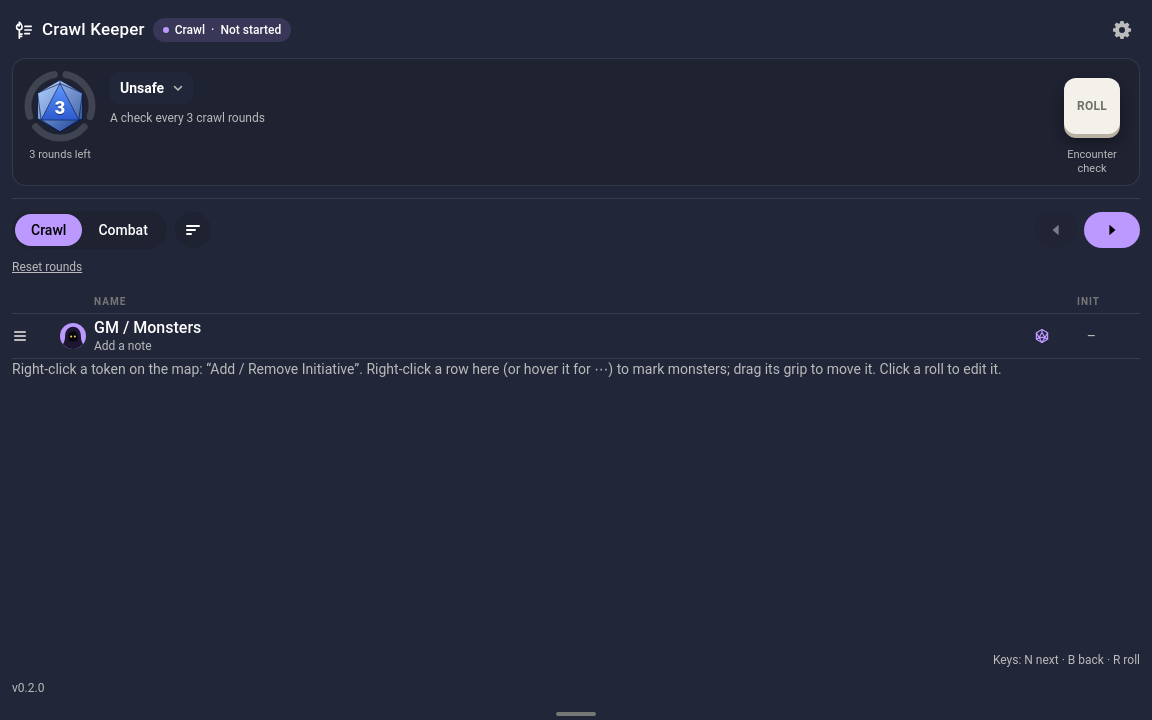
Scenario: Tracker (GM) › the GM rolls d20 + the monsters' modifier into the GM / Monsters roll
# The d20 left of the roll opens the modifier and Roll.
Click the button named "Roll initiative for GM / Monsters" at {"x": 1042, "y": 336}, box [1028, 322, 1056, 350]
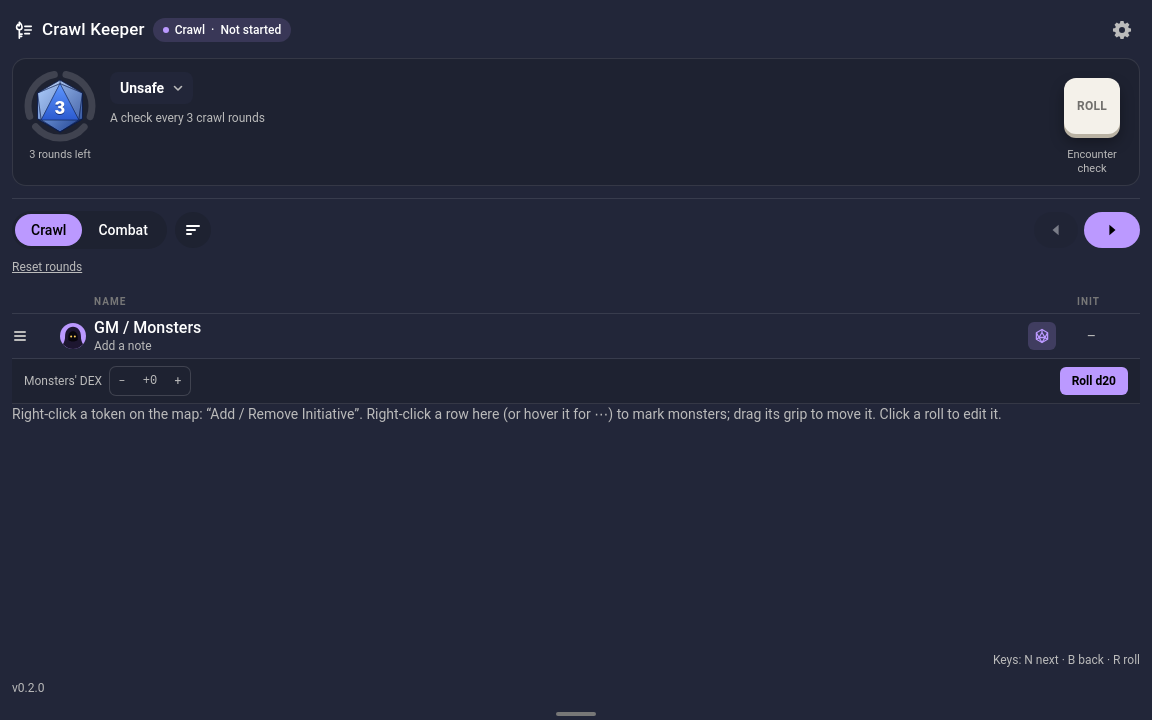
Type "+2" into the field named "Monster DEX modifier" at {"x": 150, "y": 380}, box [134, 366, 166, 394]
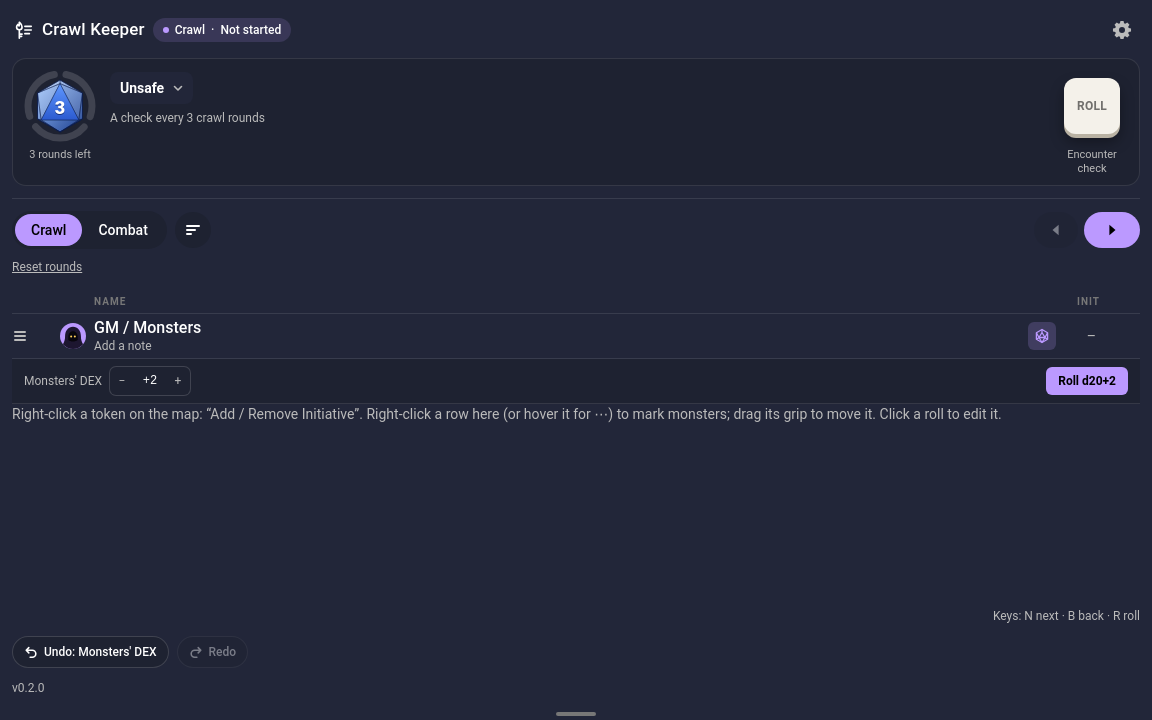
Click the button named "DEX modifier up" at {"x": 178, "y": 380}, box [166, 366, 190, 394]
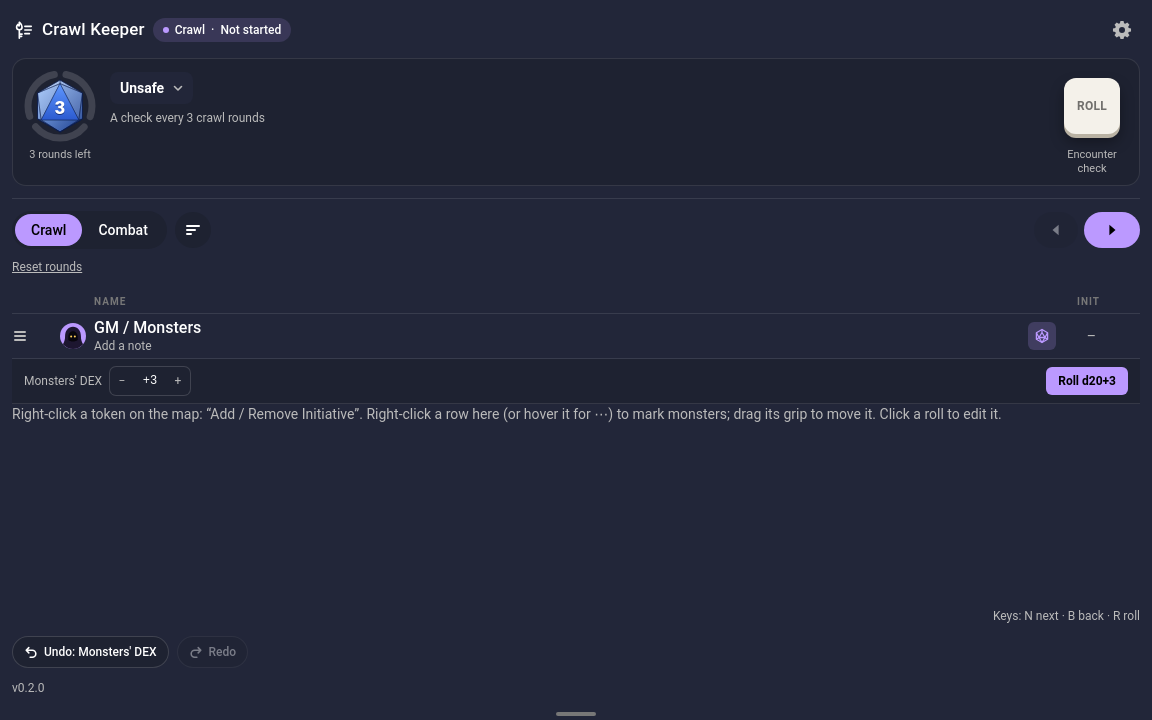
Click the button "Roll d20+3" at {"x": 1087, "y": 380}, box [1046, 366, 1128, 394]
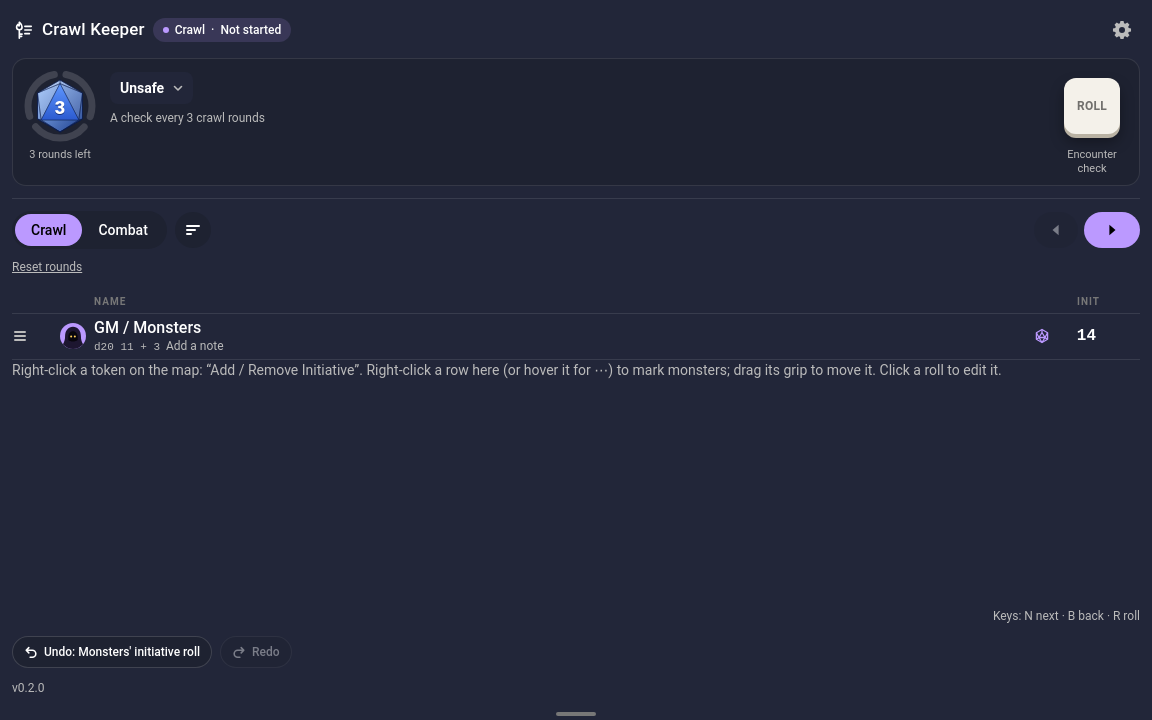
Check: the list item shows "d20 11 + 3", box [12, 314, 1140, 360]
# Not a number: the box puts the old value back.
Click the button named "Roll initiative for GM / Monsters" at {"x": 1042, "y": 336}, box [1028, 322, 1056, 350]
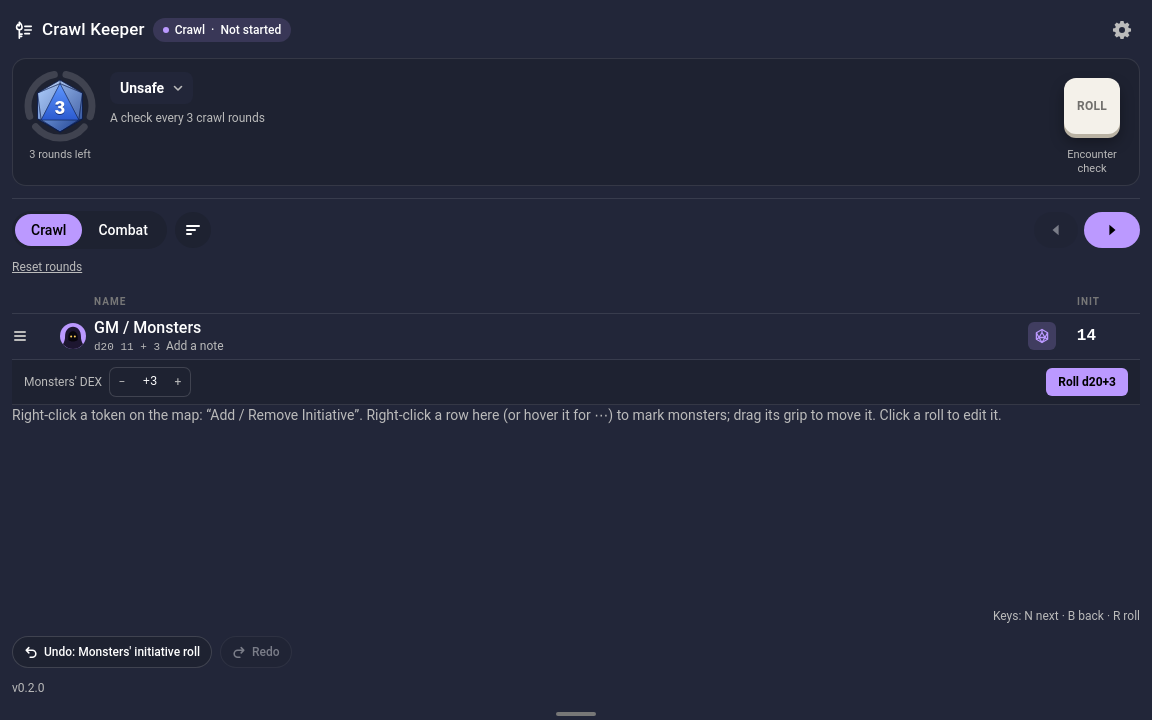
Check: the field named "Monster DEX modifier" holds "+3"
Replace the text in the field named "Monster DEX modifier" with "lots" at {"x": 150, "y": 382}, box [134, 368, 166, 396]
Leave the field named "Monster DEX modifier", box [134, 368, 166, 396]
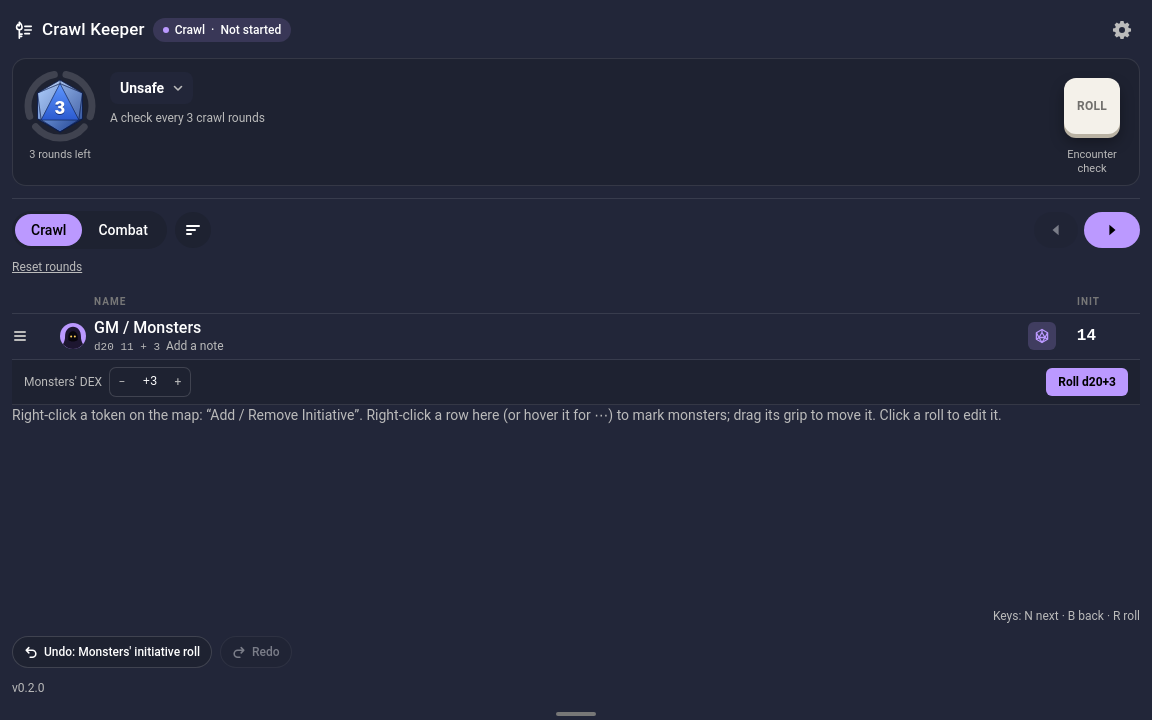
Check: the field named "Monster DEX modifier" holds "+3", box [134, 368, 166, 396]
